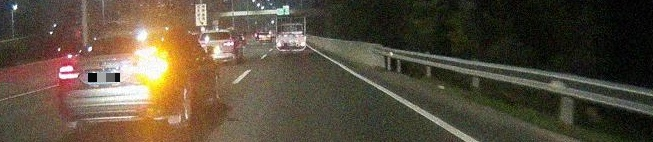L_light: (59, 65, 81, 79), (277, 42, 282, 47)
R_light: (122, 60, 166, 77), (301, 41, 306, 46)
T_light: (109, 36, 127, 40), (289, 32, 297, 34)
night-no: (275, 15, 307, 54)
night-right: (58, 31, 169, 134)
plate_1: (88, 73, 120, 82)
